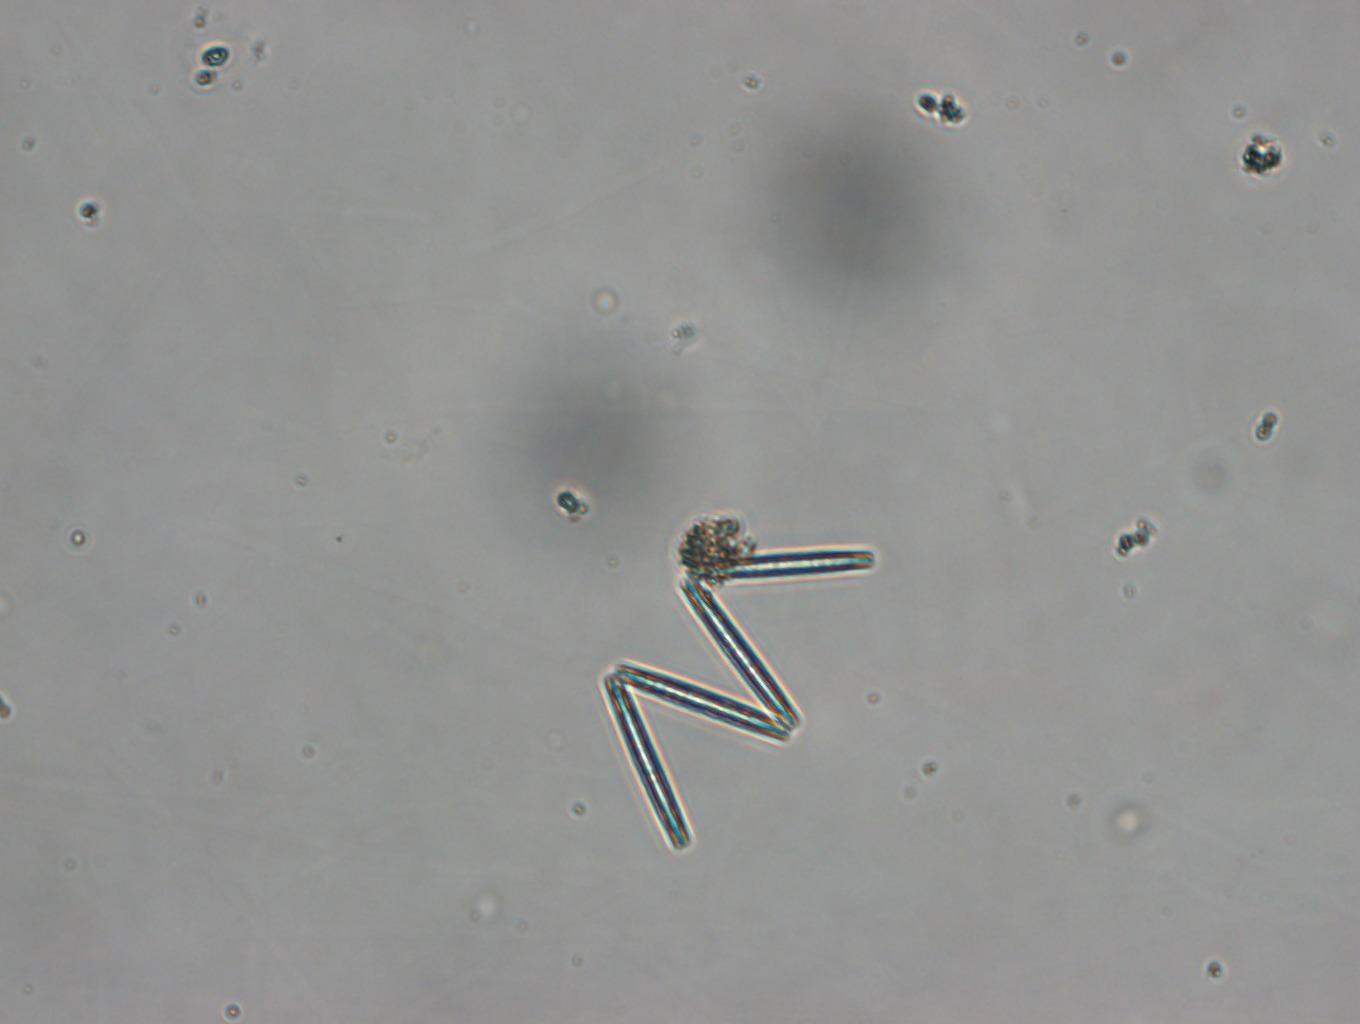thalassionema nitzschioides: (595, 546, 874, 849)
